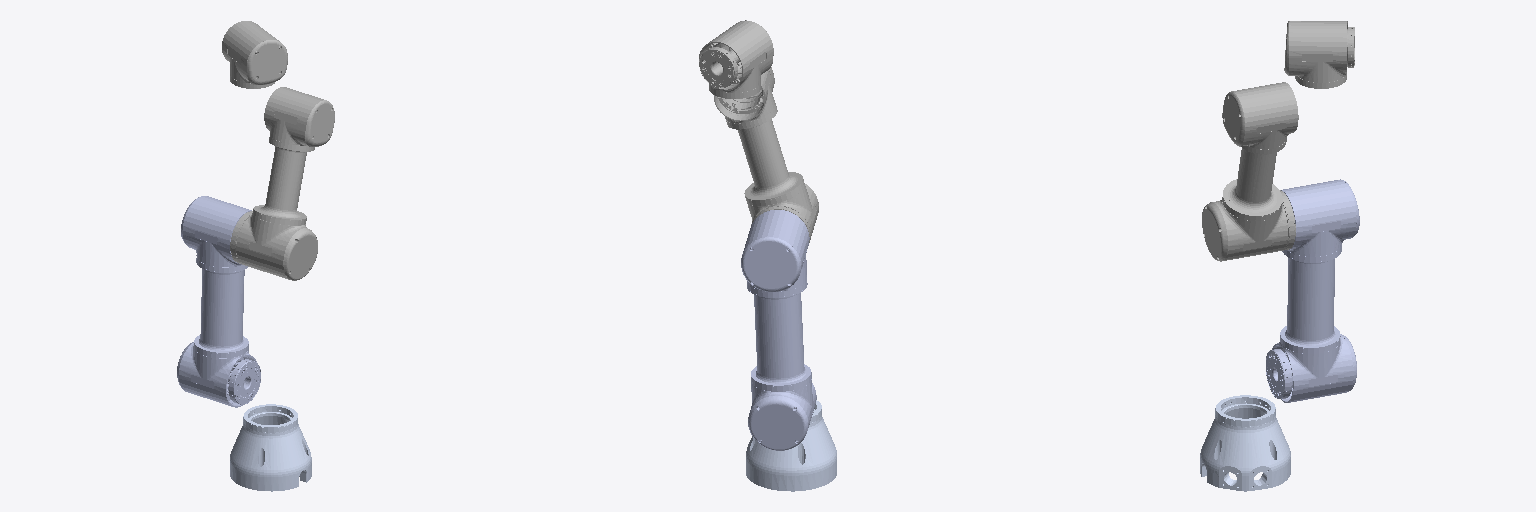
robot.urdf — erobo3:
<?xml version="1.0" encoding="utf-8"?>
<!-- This URDF was automatically created by SolidWorks to URDF Exporter! Originally created by [author] ([email redacted]) 
     Commit Version: 1.6.0-4-g7f85cfe  Build Version: 1.6.7995.38578
     For more information, please see http://wiki.ros.org/sw_urdf_exporter -->
<robot
  name="erobo3">
  <link
    name="base_link">
    <inertial>
      <origin
        xyz="-0.00228 -0.05814 -0.00089181"
        rpy="0 0 0" />
      <mass
        value="1.1786" />
      <inertia
        ixx="0.0022762"
        ixy="-7.163E-05"
        ixz="2.3775E-05"
        iyy="0.0029222"
        iyz="-3.1723E-05"
        izz="0.0022167" />
    </inertial>
    <visual>
      <origin
        xyz="0 0 0"
        rpy="0 0 0" />
      <geometry>
        <mesh
          filename="package://erob_description/meshes/erobo3/base_link.STL" />
      </geometry>
      <material
        name="">
        <color
          rgba="0.86667 0.9098 1 1" />
      </material>
    </visual>
    <collision>
      <origin
        xyz="0 0 0"
        rpy="0 0 0" />
      <geometry>
        <mesh
          filename="package://erob_description/meshes/erobo3/base_link.STL" />
      </geometry>
    </collision>
  </link>
  <link
    name="link1">
    <inertial>
      <origin
        xyz="-0.0024103 0.0057041 0.042906"
        rpy="0 0 0" />
      <mass
        value="0.26987" />
      <inertia
        ixx="0.00029683"
        ixy="5.9616E-06"
        ixz="-4.7309E-06"
        iyy="0.00028481"
        iyz="1.1582E-05"
        izz="0.00038254" />
    </inertial>
    <visual>
      <origin
        xyz="0 0 0"
        rpy="0 0 0" />
      <geometry>
        <mesh
          filename="package://erob_description/meshes/erobo3/link1.STL" />
      </geometry>
      <material
        name="">
        <color
          rgba="0.75294 0.75294 0.75294 1" />
      </material>
    </visual>
    <collision>
      <origin
        xyz="0 0 0"
        rpy="0 0 0" />
      <geometry>
        <mesh
          filename="package://erob_description/meshes/erobo3/link1.STL" />
      </geometry>
    </collision>
  </link>
  <joint
    name="joint1"
    type="revolute">
    <origin
      xyz="0 0 0"
      rpy="0 0 0" />
    <parent
      link="base_link" />
    <child
      link="link1" />
    <axis
      xyz="0 0 1" />
    <limit
      lower="-3.14"
      upper="3.14"
      effort="89"
      velocity="1.57" />
  </joint>
  <link
    name="link2">
    <inertial>
      <origin
        xyz="-0.0048043 0.11592 0.046623"
        rpy="0 0 0" />
      <mass
        value="0.95977" />
      <inertia
        ixx="0.0019004"
        ixy="3.7723E-05"
        ixz="4.7075E-07"
        iyy="0.00097497"
        iyz="6.5213E-09"
        izz="0.0020678" />
    </inertial>
    <visual>
      <origin
        xyz="0 0 0"
        rpy="0 0 0" />
      <geometry>
        <mesh
          filename="package://erob_description/meshes/erobo3/link2.STL" />
      </geometry>
      <material
        name="">
        <color
          rgba="0.79216 0.81961 0.93333 1" />
      </material>
    </visual>
    <collision>
      <origin
        xyz="0 0 0"
        rpy="0 0 0" />
      <geometry>
        <mesh
          filename="package://erob_description/meshes/erobo3/link2.STL" />
      </geometry>
    </collision>
  </link>
  <joint
    name="joint2"
    type="revolute">
    <origin
      xyz="-0.020598 0.048834 0.0435"
      rpy="1.5708 0 -2.7443" />
    <parent
      link="link1" />
    <child
      link="link2" />
    <axis
      xyz="0 0 -1" />
    <limit
      lower="-3.14"
      upper="3.14"
      effort="89"
      velocity="1.57" />
  </joint>
  <link
    name="link3">
    <inertial>
      <origin
        xyz="0.012016 0.066084 0.047955"
        rpy="0 0 0" />
      <mass
        value="0.77906" />
      <inertia
        ixx="0.0010252"
        ixy="-0.00011624"
        ixz="1.678E-06"
        iyy="0.00065704"
        iyz="4.2143E-06"
        izz="0.0012337" />
    </inertial>
    <visual>
      <origin
        xyz="0 0 0"
        rpy="0 0 0" />
      <geometry>
        <mesh
          filename="package://erob_description/meshes/erobo3/link3.STL" />
      </geometry>
      <material
        name="">
        <color
          rgba="0.75294 0.75294 0.75294 1" />
      </material>
    </visual>
    <collision>
      <origin
        xyz="0 0 0"
        rpy="0 0 0" />
      <geometry>
        <mesh
          filename="package://erob_description/meshes/erobo3/link3.STL" />
      </geometry>
    </collision>
  </link>
  <joint
    name="joint3"
    type="revolute">
    <origin
      xyz="-0.016847 0.24292 0.00043131"
      rpy="3.1416 0 -3.1416" />
    <parent
      link="link2" />
    <child
      link="link3" />
    <axis
      xyz="0 0 -1" />
    <limit
      lower="-3.14"
      upper="3.14"
      effort="89"
      velocity="1.57" />
  </joint>
  <link
    name="link4">
    <inertial>
      <origin
        xyz="0.0068449 -0.0059708 0.029196"
        rpy="0 0 0" />
      <mass
        value="0.14724" />
      <inertia
        ixx="0.00012624"
        ixy="-5.1994E-07"
        ixz="-3.2353E-08"
        iyy="0.00016231"
        iyz="7.1613E-06"
        izz="0.00011779" />
    </inertial>
    <visual>
      <origin
        xyz="0 0 0"
        rpy="0 0 0" />
      <geometry>
        <mesh
          filename="package://erob_description/meshes/erobo3/link4.STL" />
      </geometry>
      <material
        name="">
        <color
          rgba="0.75294 0.75294 0.75294 1" />
      </material>
    </visual>
    <collision>
      <origin
        xyz="0 0 0"
        rpy="0 0 0" />
      <geometry>
        <mesh
          filename="package://erob_description/meshes/erobo3/link4.STL" />
      </geometry>
    </collision>
  </link>
  <joint
    name="joint4"
    type="revolute">
    <origin
      xyz="0.05822 0.20282 0.013792"
      rpy="-3.1416 0 3.1416" />
    <parent
      link="link3" />
    <child
      link="link4" />
    <axis
      xyz="0 0 1" />
    <limit
      lower="-3.14"
      upper="3.14"
      effort="54"
      velocity="1.57" />
  </joint>
  <link
    name="link5">
    <inertial>
      <origin
        xyz="-0.0001352 0.0067778 0.038844"
        rpy="0 0 0" />
      <mass
        value="0.14724" />
      <inertia
        ixx="0.00015549"
        ixy="-1.3012E-05"
        ixz="6.5152E-06"
        iyy="0.00013201"
        iyz="-2.9713E-06"
        izz="0.00011884" />
    </inertial>
    <visual>
      <origin
        xyz="0 0 0"
        rpy="0 0 0" />
      <geometry>
        <mesh
          filename="package://erob_description/meshes/erobo3/link5.STL" />
      </geometry>
      <material
        name="">
        <color
          rgba="0.75294 0.75294 0.75294 1" />
      </material>
    </visual>
    <collision>
      <origin
        xyz="0 0 0"
        rpy="0 0 0" />
      <geometry>
        <mesh
          filename="package://erob_description/meshes/erobo3/link5.STL" />
      </geometry>
    </collision>
  </link>
  <joint
    name="joint5"
    type="revolute">
    <origin
      xyz="-0.00038992 0.038997 0.047001"
      rpy="-1.5869 -1.5708 0.028381" />
    <parent
      link="link4" />
    <child
      link="link5" />
    <axis
      xyz="0 0 1" />
    <limit
      lower="-3.14"
      upper="3.14"
      effort="34"
      velocity="1.57" />
  </joint>
  <link
    name="link6">
    <inertial>
      <origin
        xyz="0.0060193 0.00018442 -0.018323"
        rpy="0 0 0" />
      <mass
        value="0.24156" />
      <inertia
        ixx="0.00011407"
        ixy="7.9902E-07"
        ixz="2.0083E-08"
        iyy="0.00011608"
        iyz="5.7355E-08"
        izz="0.0001913" />
    </inertial>
    <visual>
      <origin
        xyz="0 0 0"
        rpy="0 0 0" />
      <geometry>
        <mesh
          filename="package://erob_description/meshes/erobo3/link6.STL" />
      </geometry>
      <material
        name="">
        <color
          rgba="0.8902 0.8902 0.91373 1" />
      </material>
    </visual>
    <collision>
      <origin
        xyz="0 0 0"
        rpy="0 0 0" />
      <geometry>
        <mesh
          filename="package://erob_description/meshes/erobo3/link6.STL" />
      </geometry>
    </collision>
  </link>
  <joint
    name="joint6"
    type="revolute">
    <origin
      xyz="0.066182 -0.029603 0.046998"
      rpy="1.5708 0.011172 1.1502" />
    <parent
      link="link5" />
    <child
      link="link6" />
    <axis
      xyz="0 0 -1" />
    <limit
      lower="-3.14"
      upper="3.14"
      effort="34"
      velocity="1.57" />
  </joint>
</robot>

--- Facts derived from the render (not from the file) ---
The picture shows the robot from 3 angles, left to right: view 1: azimuth 30°, elevation 25°; view 2: azimuth 150°, elevation 25°; view 3: azimuth 270°, elevation 25°; orthographic projection.
Robot: erobo3 — 7 links, 6 joints (6 revolute); root link base_link; default pose: all joints at 0.
Visible links, largest first — view 1: link2, link3, base_link, link5; view 2: link2, link3, base_link, link5; view 3: link2, link3, base_link, link5.
Link boxes in pixels (x1,y1,x2,y2): link2: (177,196,260,407); link3: (230,87,334,280); base_link: (230,404,311,491); link5: (222,21,287,88); link2: (741,210,816,450); link3: (714,67,818,242); base_link: (746,400,836,491); link5: (699,20,773,98); link2: (1266,179,1359,402); link3: (1202,82,1298,261); base_link: (1200,395,1290,491); link5: (1284,21,1354,88).
Size in the robot's own frame: 0.2099 by 0.2248 by 0.7123 metres.
4 mesh visuals loaded from 7 distinct referenced files (4 binary STL); not drawn: 3 (reference not matched to a file when rendering).